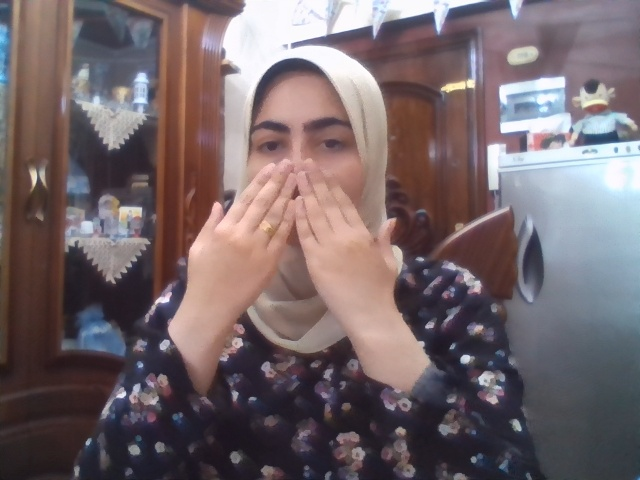thanks: (186, 157, 399, 324)
